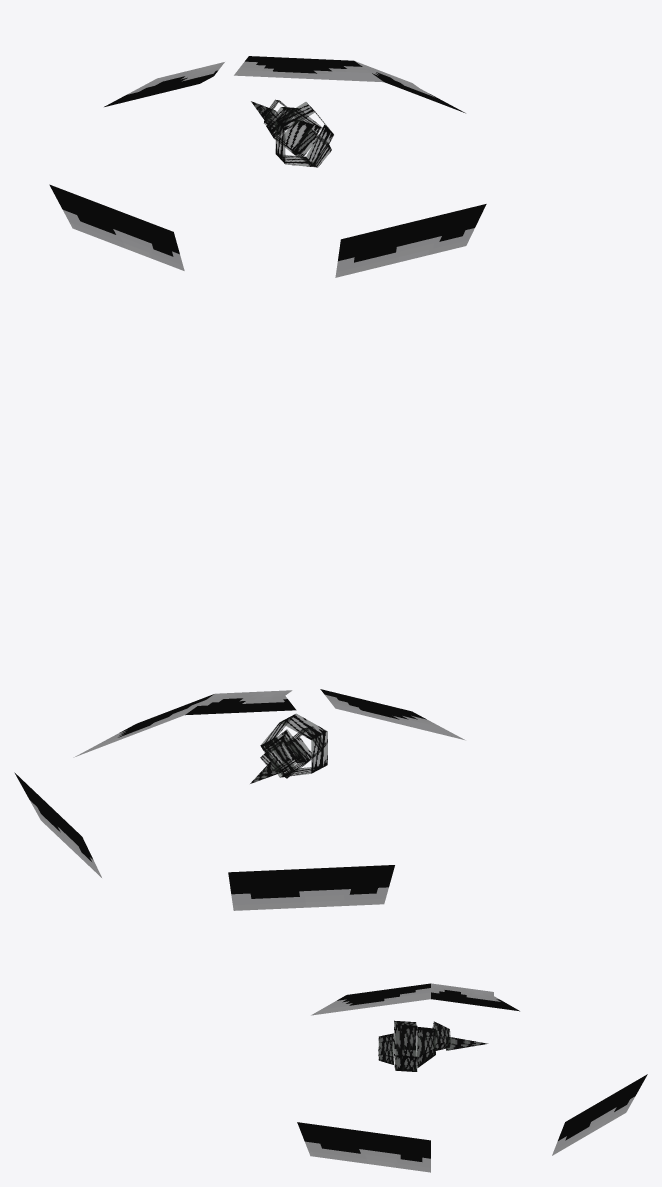
The model's file is 69_efe.gltf.
The picture shows the model from 3 angles, top to bottom: view 1: azimuth 30°, elevation 25°; view 2: azimuth 150°, elevation 25°; view 3: azimuth 270°, elevation 25°; orthographic projection. The views are drawn at different scales.
Size of the model in its own units: 820 by 400 by 1140.
Materials: 1 (1 with a texture image).
